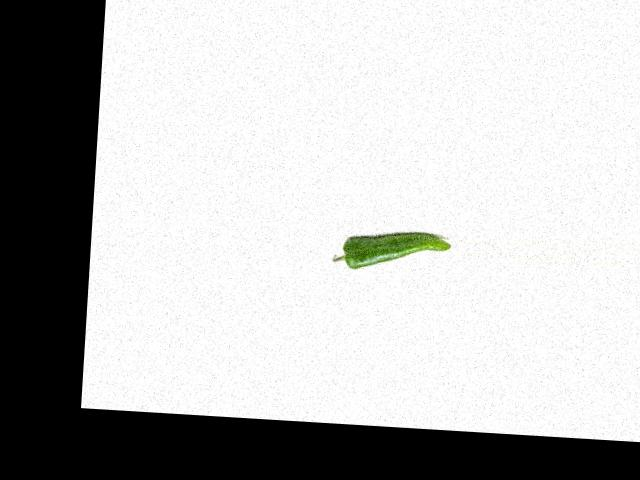bell_pepper: (327, 224, 452, 277)
